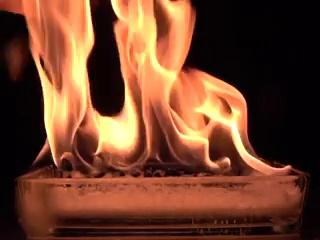Fire: (6, 1, 287, 181)
